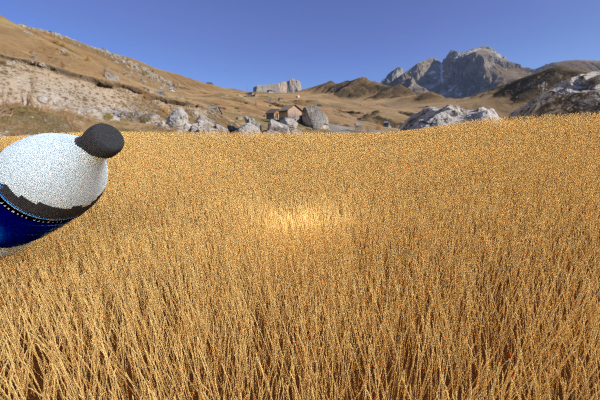bottle: (0, 123, 124, 265)
can: (53, 134, 87, 159), (598, 117, 600, 197)
